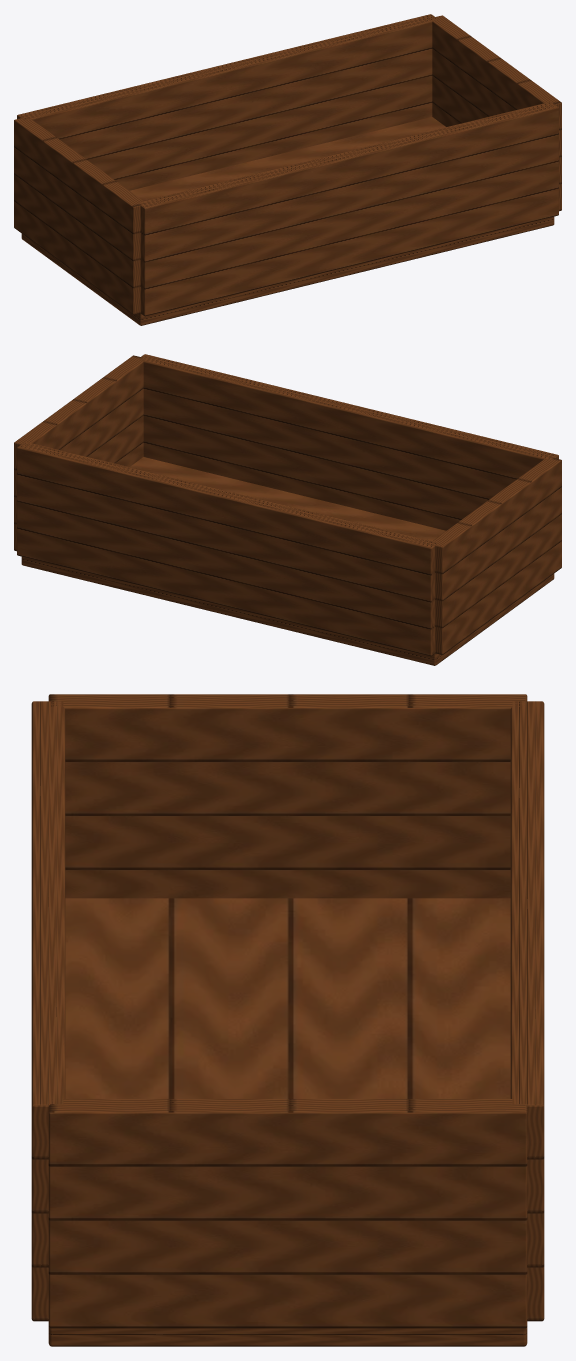
File: survival-food-and-preservation-salting-trough-7c5d11c6__21815.glb
3 renders of one model, top to bottom at view 1: azimuth 30°, elevation 25°; view 2: azimuth 150°, elevation 25°; view 3: azimuth 270°, elevation 25°, orthographic. The views are drawn at different scales.
Parts seen in each view (by area): view 1: salting-trough; view 2: salting-trough; view 3: salting-trough.
Boxes of the visible parts, left/top/right/bottom form: salting-trough: left=14, top=14, right=561, bottom=325; salting-trough: left=14, top=354, right=561, bottom=665; salting-trough: left=31, top=694, right=544, bottom=1346.
Bounding box in the file's own units: 1.03 × 0.28 × 0.535.
1 material, 1 textured.
